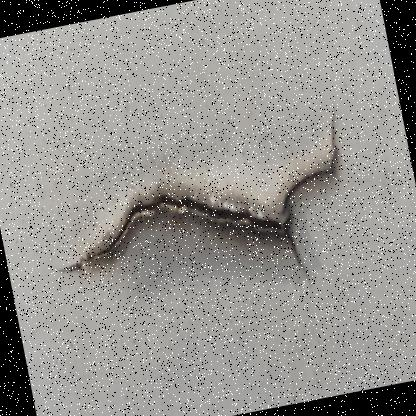Crack: (17, 52, 388, 356)
